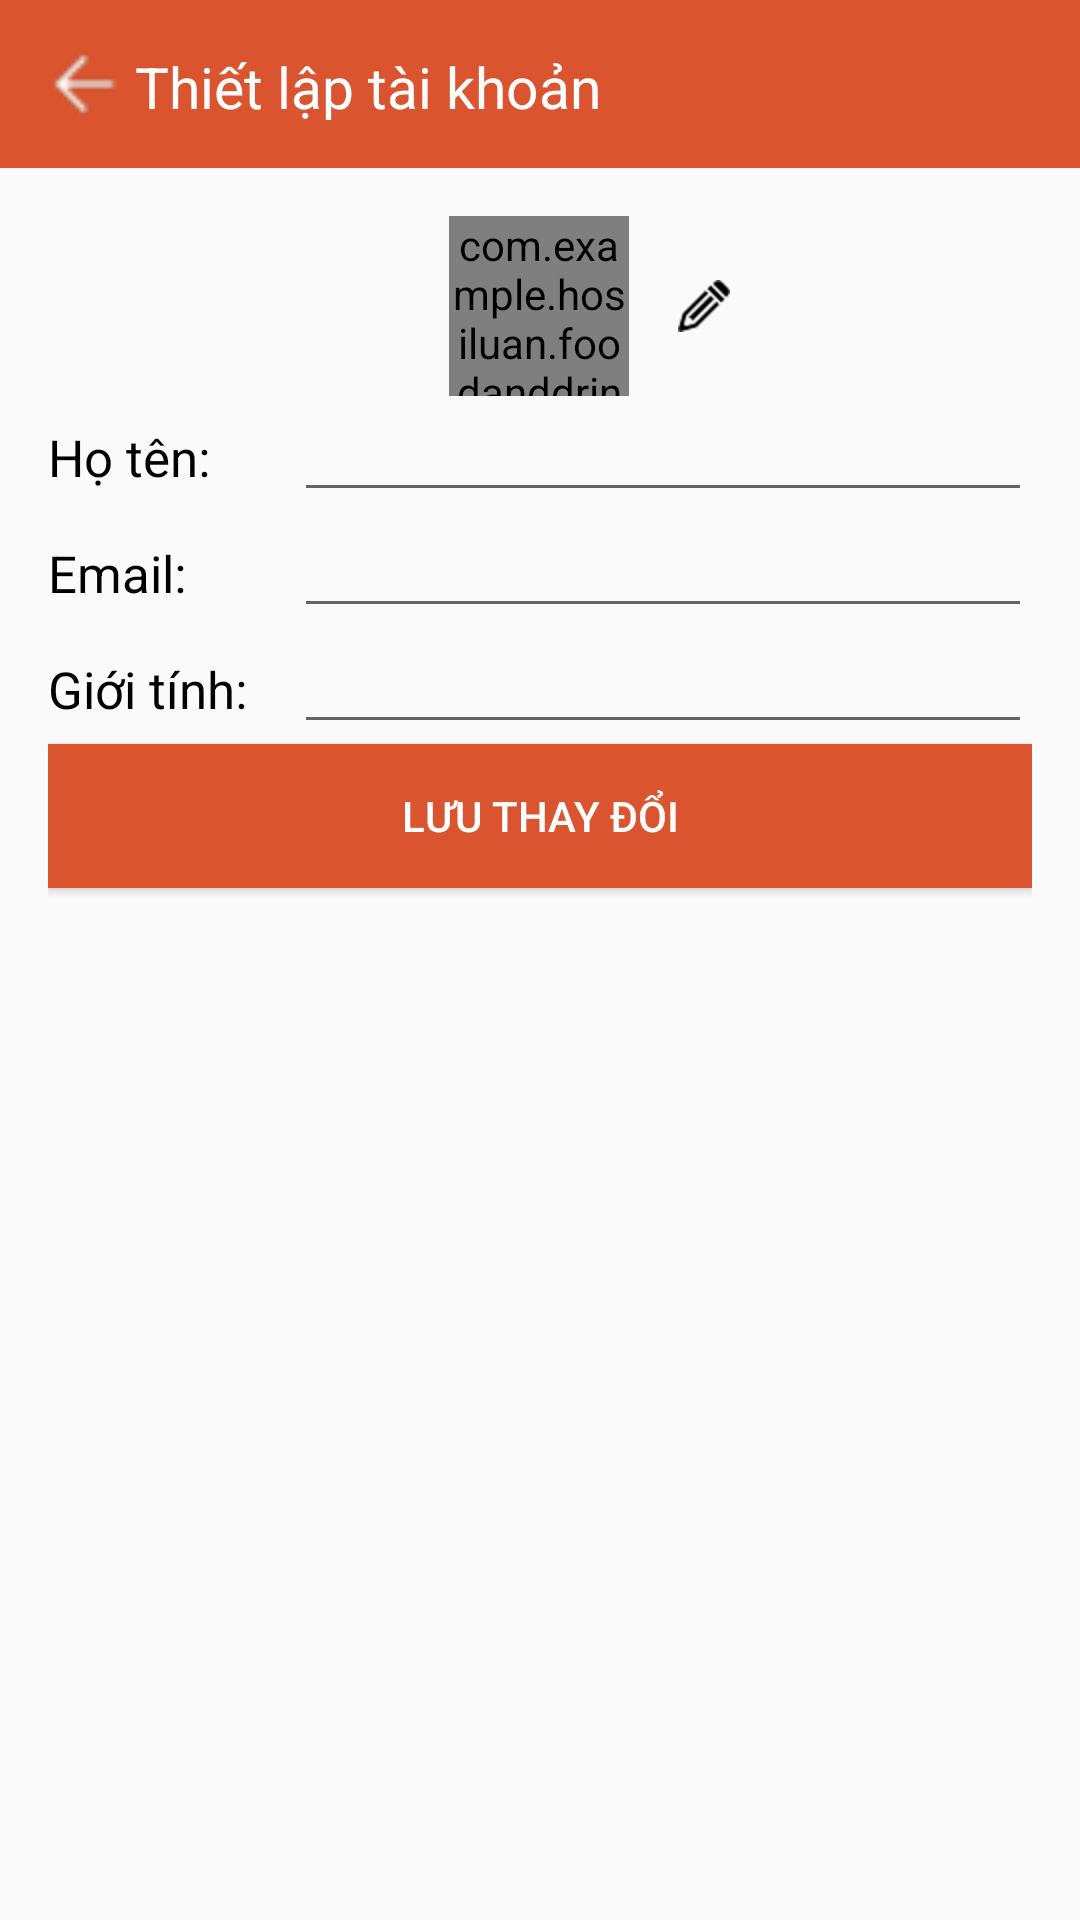

Icons on this 1080x1920 Android screen, each with its box as (x1, y1, x2, y2):
back: (54, 55, 116, 113)
edit: (678, 280, 730, 332)
